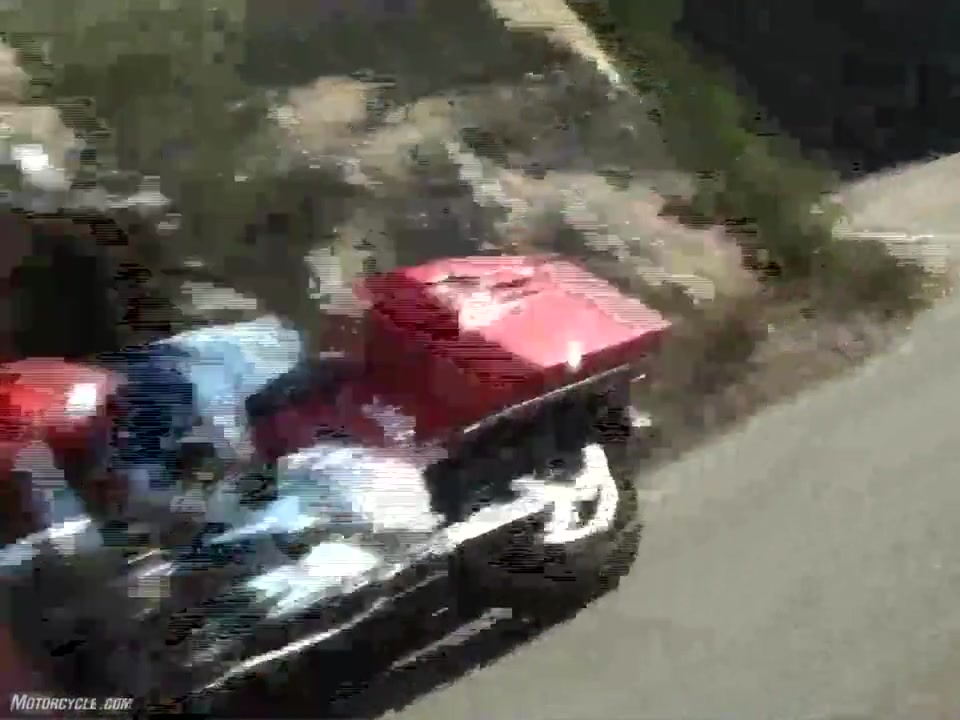motorbike: (1, 249, 667, 720)
